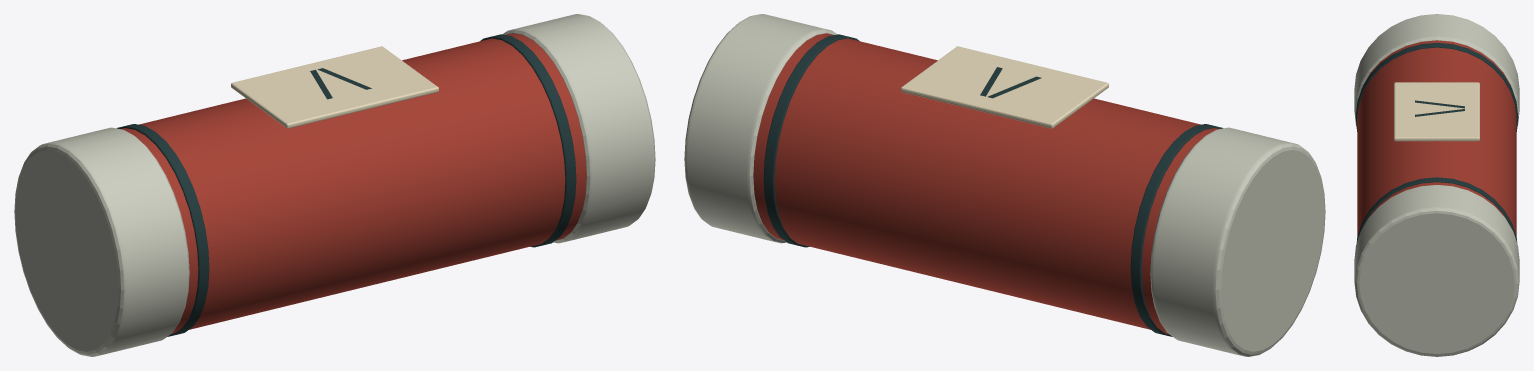
Rendered from fuse_red.glb.
The picture shows the model from 3 angles, left to right: view 1: azimuth 30°, elevation 25°; view 2: azimuth 150°, elevation 25°; view 3: azimuth 270°, elevation 25°; orthographic projection. The views are drawn at different scales.
Visible parts, largest first — view 1: fuse_red; view 2: fuse_red; view 3: fuse_red.
Part boxes in pixels (x1,y1,x2,y2): fuse_red: (14, 14, 655, 356); fuse_red: (684, 14, 1325, 356); fuse_red: (1354, 14, 1519, 356).
Bounding box in the file's own units: 0.06 × 0.0216 × 0.0213.
